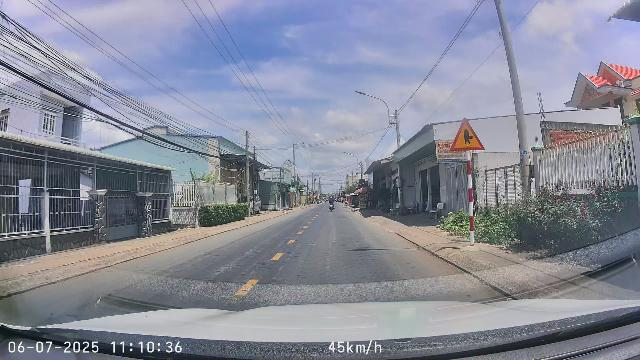207-giao-nhau-voi-duong-khong-uu-tien: (450, 118, 485, 151)
